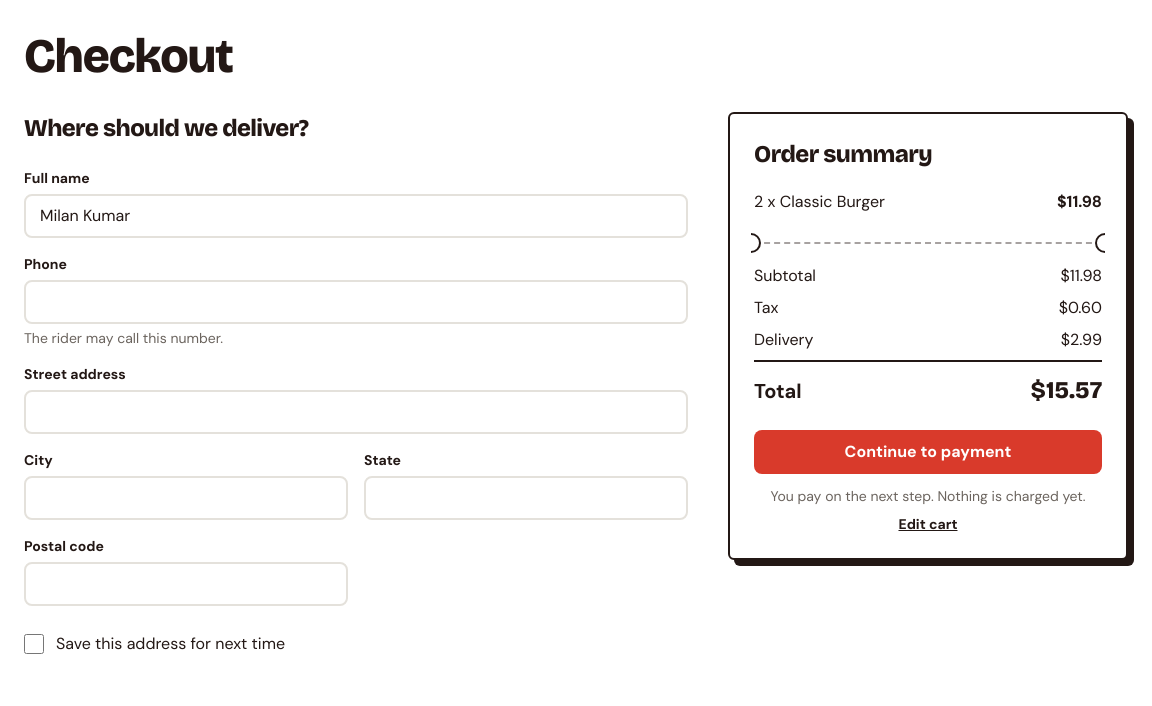
Test: Checkout › validates the delivery details before creating an order
The width and height of the screenshot is (1152, 706).
Check: the text "$15.57" is shown, box x1=1031 y1=374 x2=1102 y2=406
Click the button "Continue to payment" at point(928, 452), box x1=754 y1=430 x2=1102 y2=474
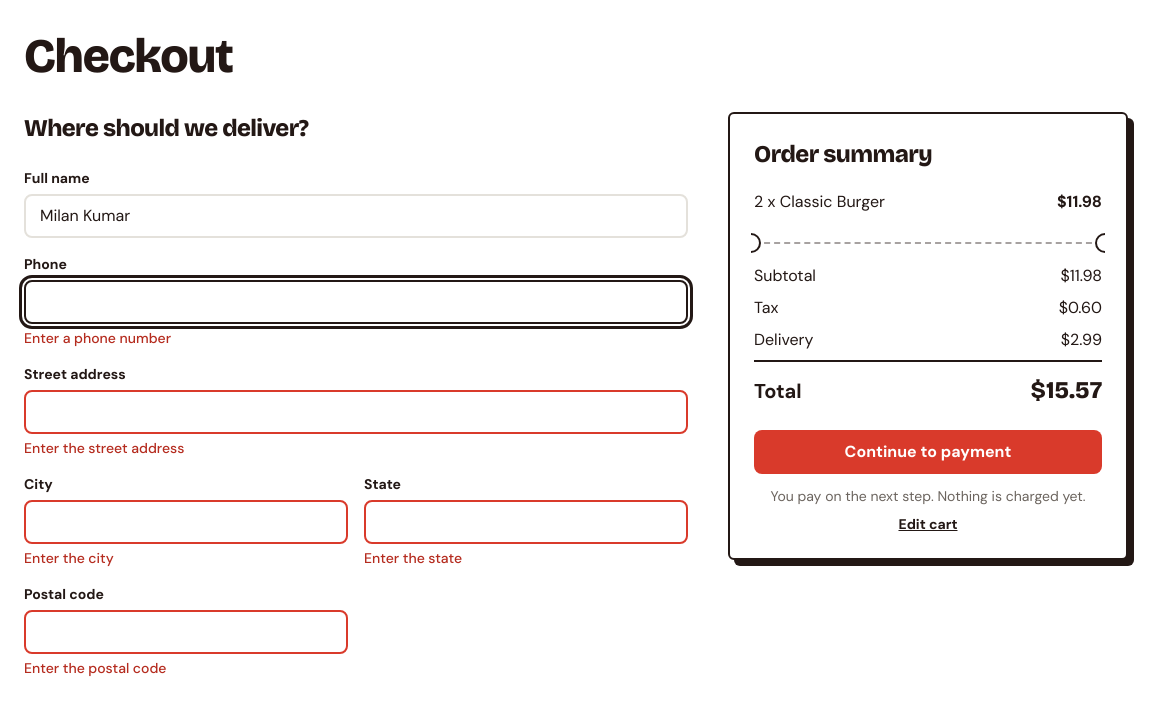
Check: the text "Enter a phone number" is shown, box x1=24 y1=329 x2=171 y2=347
Check: the text "Enter the city" is shown, box x1=24 y1=549 x2=114 y2=567
